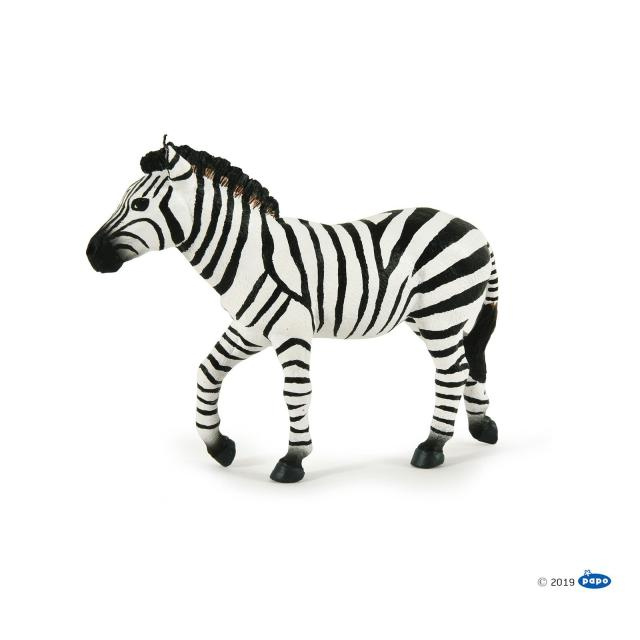zebra: (86, 140, 498, 482)
